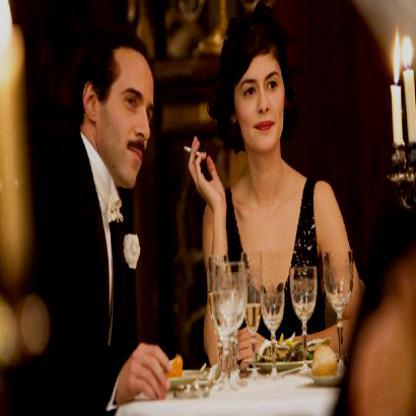cigarette: (182, 144, 207, 160)
person: (27, 29, 166, 414), (204, 8, 348, 358)
